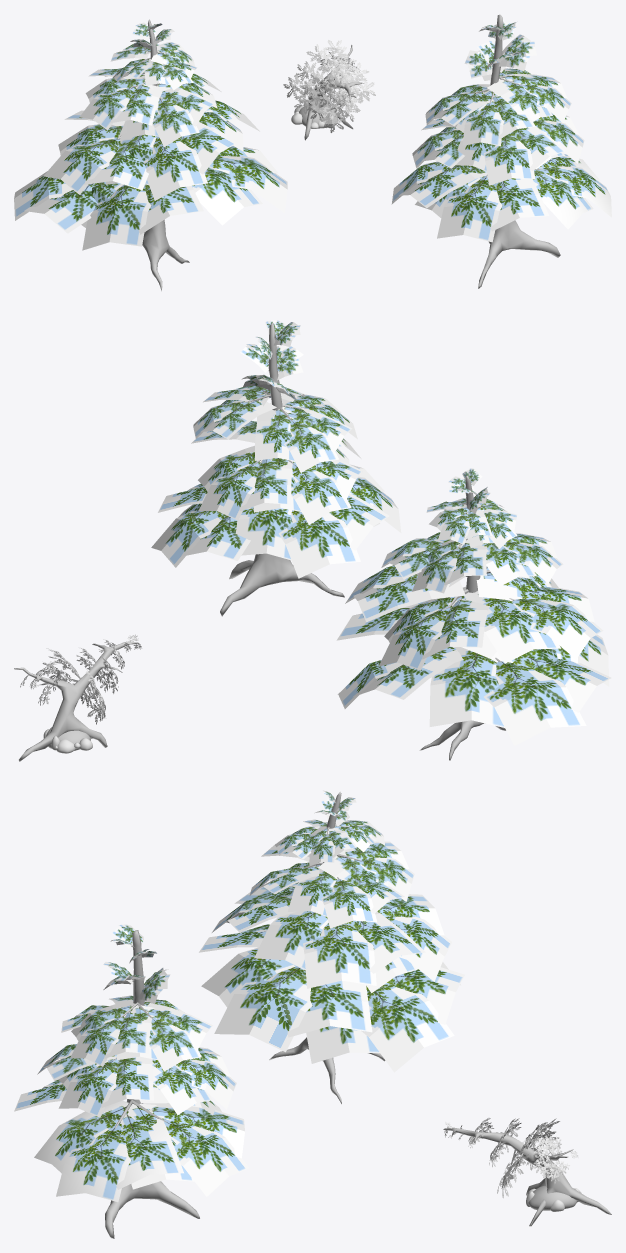
Rendered from TreesForGame 1.fbx.
3 renders of one model, top to bottom at view 1: azimuth 30°, elevation 25°; view 2: azimuth 150°, elevation 25°; view 3: azimuth 270°, elevation 25°, orthographic. The views are drawn at different scales.
Parts seen in each view (by area): view 1: Cylinder.094, Cylinder.161, Cylinder.160, Cylinder.165, Cylinder.162, Cylinder.002, Cylinder.097, Cylinder.168, Cylinder.158, Cylinder.167, Cylinder.101, Cylinder.100 (+20 smaller); view 2: Cylinder.158, Cylinder.004, Cylinder.162, Cylinder.163, Cylinder.095, Cylinder.099, Cylinder.003, Cylinder.096, Cylinder.159, Cylinder.164, Cube.002, Cylinder.168 (+16 smaller); view 3: Cylinder.160, Cylinder.002, Cylinder.159, Cylinder.164, Cylinder.003, Cylinder.098, Cylinder.166, Cylinder.163, Cylinder.101, Cylinder.095, Cylinder.102, Cylinder.169 (+12 smaller).
Boxes of the visible parts, x1=… form: Cylinder.094: x1=415, y1=166, x2=549, y2=242; Cylinder.161: x1=81, y1=182, x2=203, y2=250; Cylinder.160: x1=192, y1=146, x2=287, y2=225; Cylinder.165: x1=105, y1=120, x2=237, y2=200; Cylinder.162: x1=43, y1=124, x2=148, y2=194; Cylinder.002: x1=533, y1=154, x2=611, y2=229; Cylinder.097: x1=455, y1=126, x2=565, y2=185; Cylinder.168: x1=79, y1=73, x2=163, y2=130; Cylinder.158: x1=14, y1=171, x2=97, y2=233; Cylinder.167: x1=126, y1=88, x2=214, y2=147; Cylinder.101: x1=487, y1=73, x2=571, y2=122; Cylinder.100: x1=442, y1=86, x2=535, y2=146; Cylinder.158: x1=429, y1=647, x2=611, y2=745; Cylinder.004: x1=236, y1=493, x2=389, y2=578; Cylinder.162: x1=448, y1=587, x2=603, y2=663; Cylinder.163: x1=378, y1=586, x2=489, y2=670; Cylinder.095: x1=198, y1=445, x2=292, y2=520; Cylinder.099: x1=255, y1=407, x2=351, y2=472; Cylinder.003: x1=151, y1=503, x2=250, y2=567; Cylinder.096: x1=250, y1=451, x2=362, y2=524; Cylinder.159: x1=338, y1=646, x2=463, y2=708; Cylinder.164: x1=345, y1=565, x2=467, y2=622; Cube.002: x1=220, y1=323, x2=344, y2=616; Cylinder.168: x1=457, y1=533, x2=563, y2=586; Cylinder.160: x1=201, y1=947, x2=372, y2=1052; Cylinder.002: x1=34, y1=1100, x2=183, y2=1202; Cylinder.159: x1=306, y1=967, x2=464, y2=1072; Cylinder.164: x1=254, y1=911, x2=425, y2=988; Cylinder.003: x1=102, y1=1100, x2=248, y2=1196; Cylinder.098: x1=58, y1=1055, x2=153, y2=1117; Cylinder.166: x1=287, y1=865, x2=404, y2=928; Cylinder.163: x1=366, y1=894, x2=451, y2=993; Cylinder.101: x1=70, y1=999, x2=152, y2=1066; Cylinder.095: x1=152, y1=1047, x2=236, y2=1114; Cylinder.102: x1=115, y1=1002, x2=212, y2=1071; Cylinder.169: x1=318, y1=841, x2=414, y2=901.
Size of the model in its own units: 49.4 by 25.62 by 46.68.
